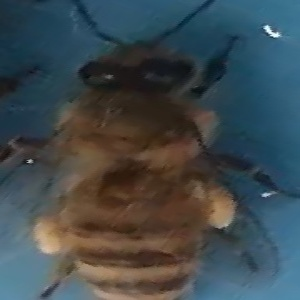bee: (8, 23, 272, 300)
